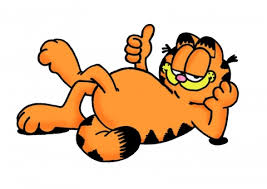thumbs_up: (121, 23, 155, 64)
